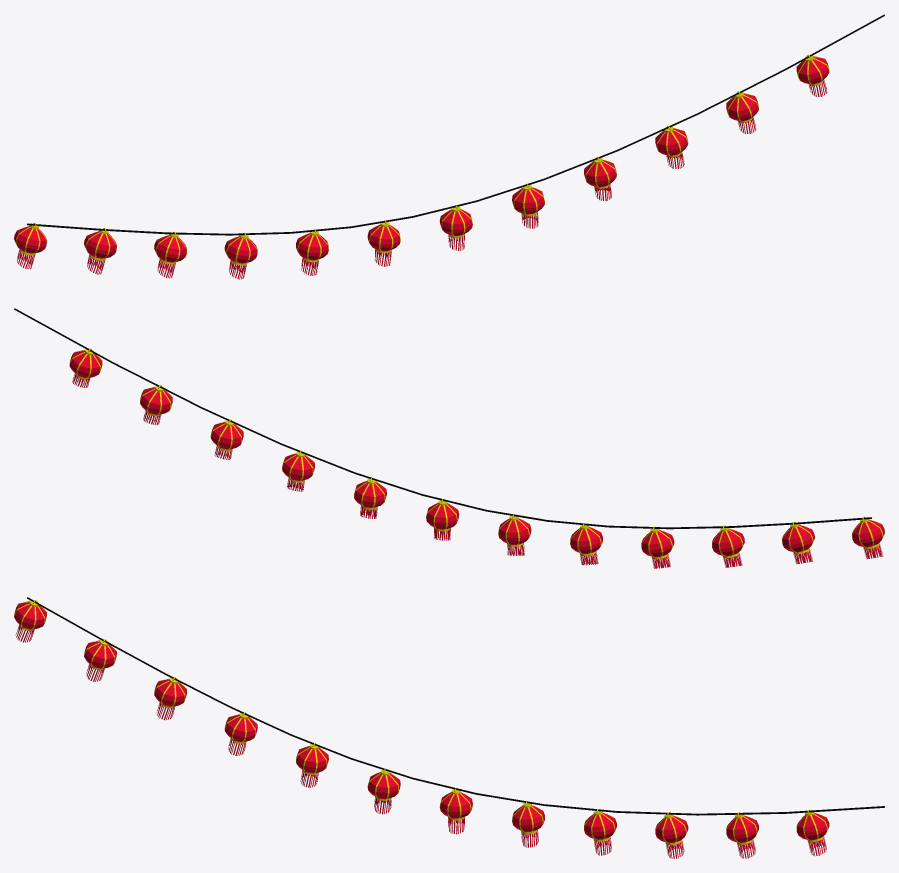
Rendered from Lanterns.fbx.
The picture shows the model from 3 angles, top to bottom: view 1: azimuth 30°, elevation 25°; view 2: azimuth 150°, elevation 25°; view 3: azimuth 330°, elevation 25°; orthographic projection.
Visible parts, largest first — view 1: Circle, BézierCurve.001; view 2: Circle, BézierCurve.001; view 3: Circle, BézierCurve.001.
Part boxes in pixels (x1=…): Circle: x1=14, y1=54, x2=829, y2=279; BézierCurve.001: x1=27, y1=14, x2=884, y2=235; Circle: x1=69, y1=348, x2=884, y2=568; BézierCurve.001: x1=14, y1=308, x2=871, y2=529; Circle: x1=14, y1=600, x2=829, y2=858; BézierCurve.001: x1=27, y1=597, x2=884, y2=815.
Bounding box in the file's own units: 11368 × 1615 × 386.
